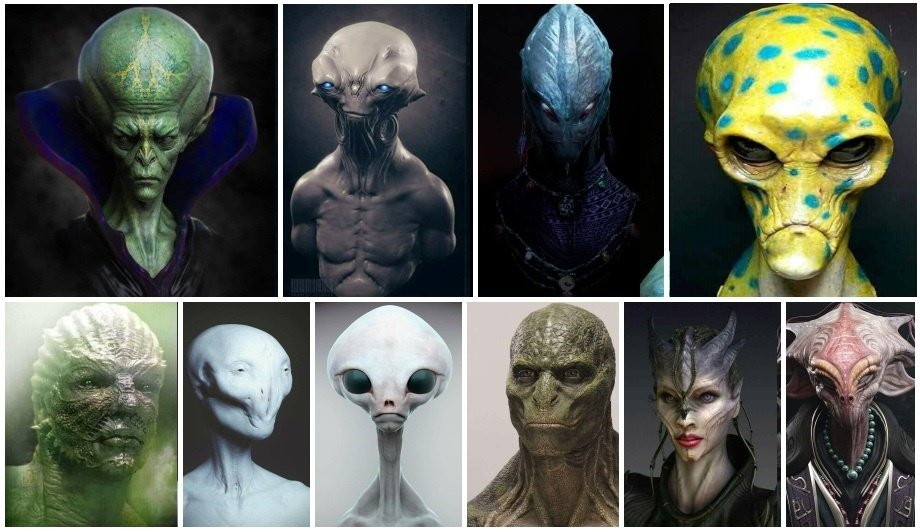aliens: (672, 6, 912, 296), (54, 4, 224, 206), (12, 302, 169, 497), (484, 303, 618, 506), (786, 302, 914, 495), (320, 304, 456, 476), (631, 304, 753, 495), (505, 3, 625, 190), (184, 321, 299, 497), (304, 18, 430, 165)
